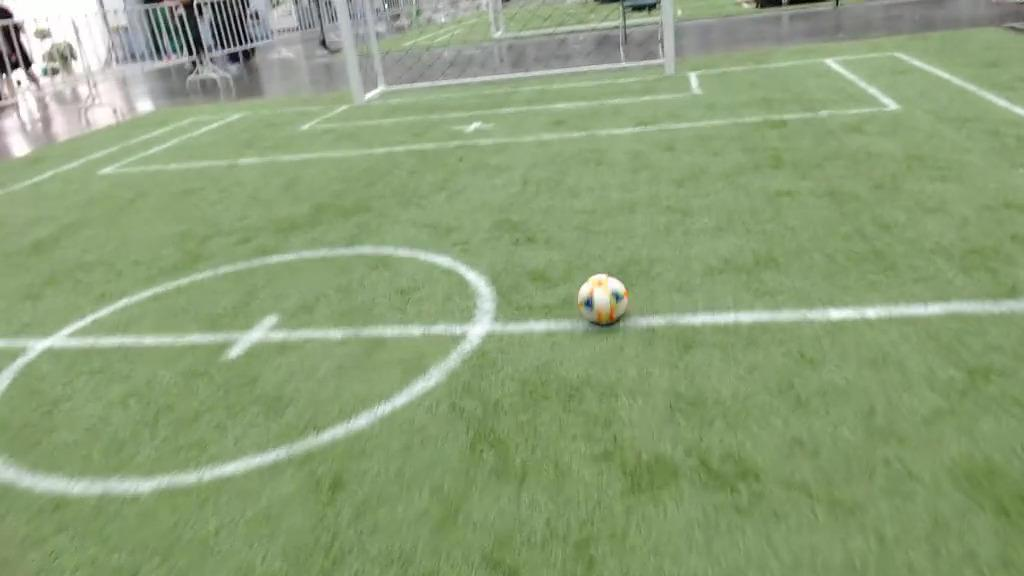ball: (577, 273, 628, 325)
